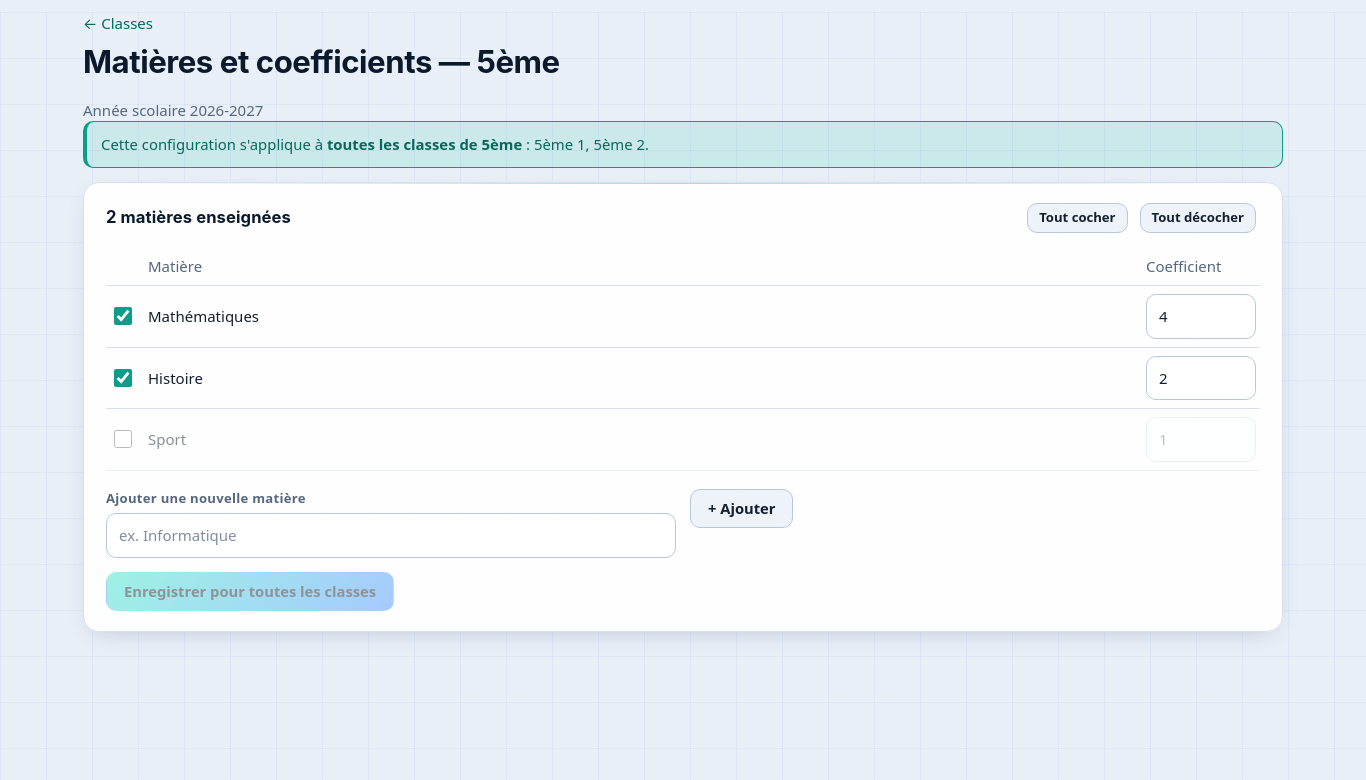
Test: Configuration des matières d’un niveau › n’enregistre que les matières cochées, avec leurs coefficients
The image size is (1366, 780).
Replace the text in the number field named "Coefficient Mathématiques" with "6": (1201, 316) [1146,294,1256,338]
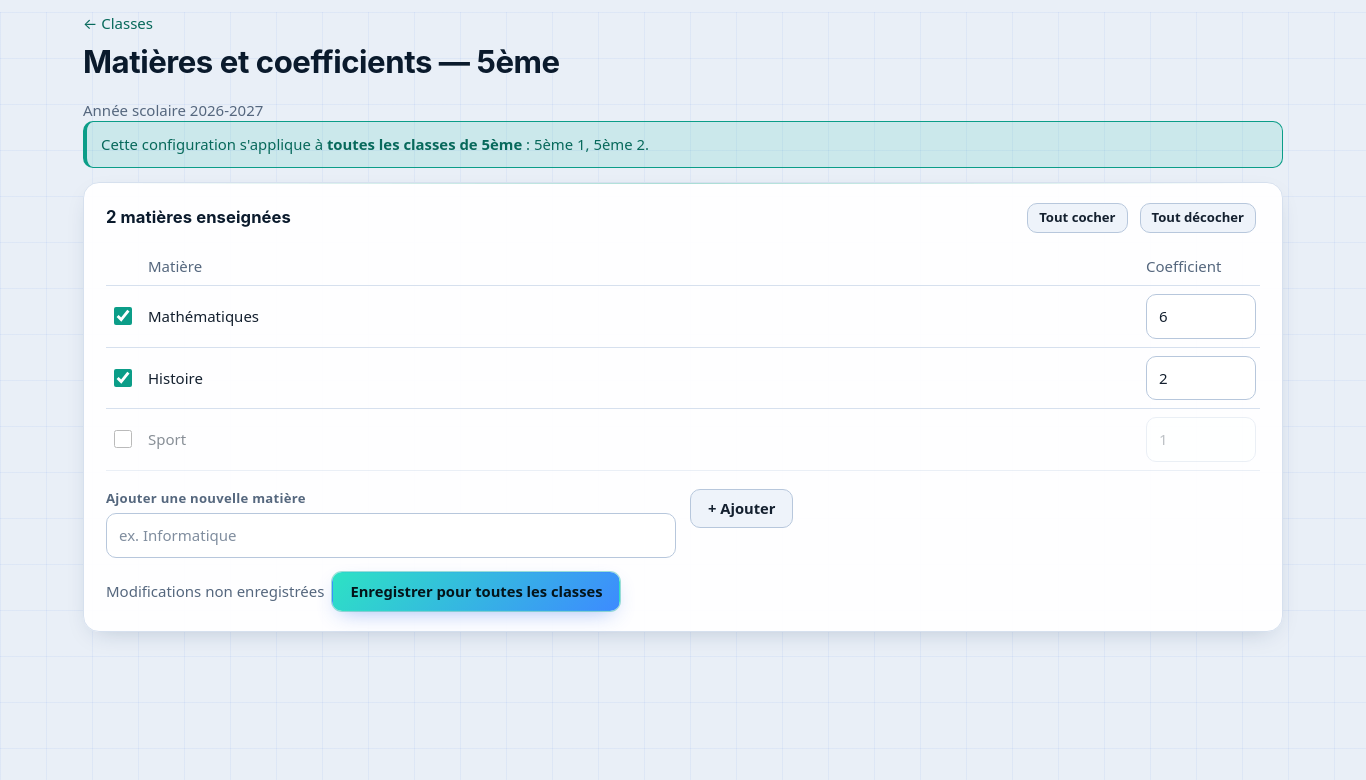
Click the checkbox named "Enseigner Histoire": (123, 378) [114,369,132,387]
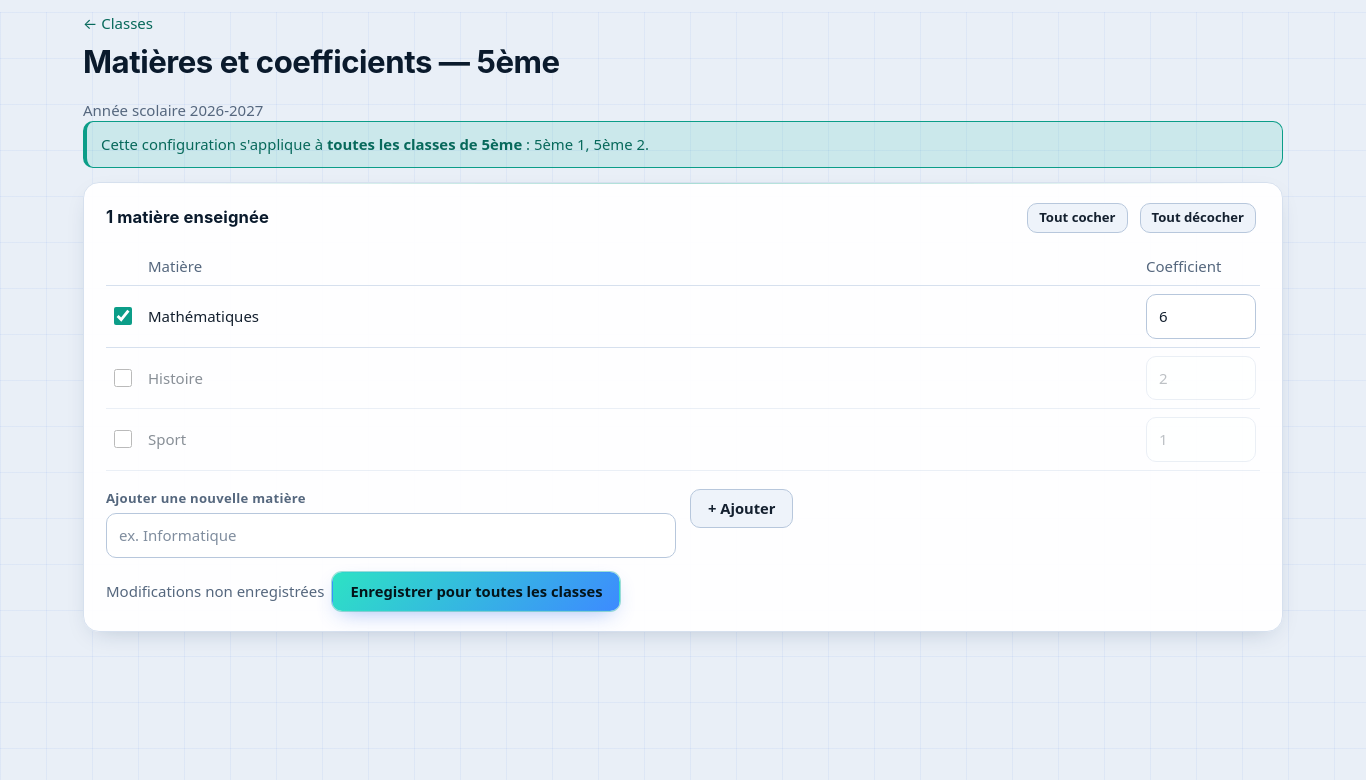
Click the checkbox named "Enseigner Sport": (123, 439) [114,430,132,448]
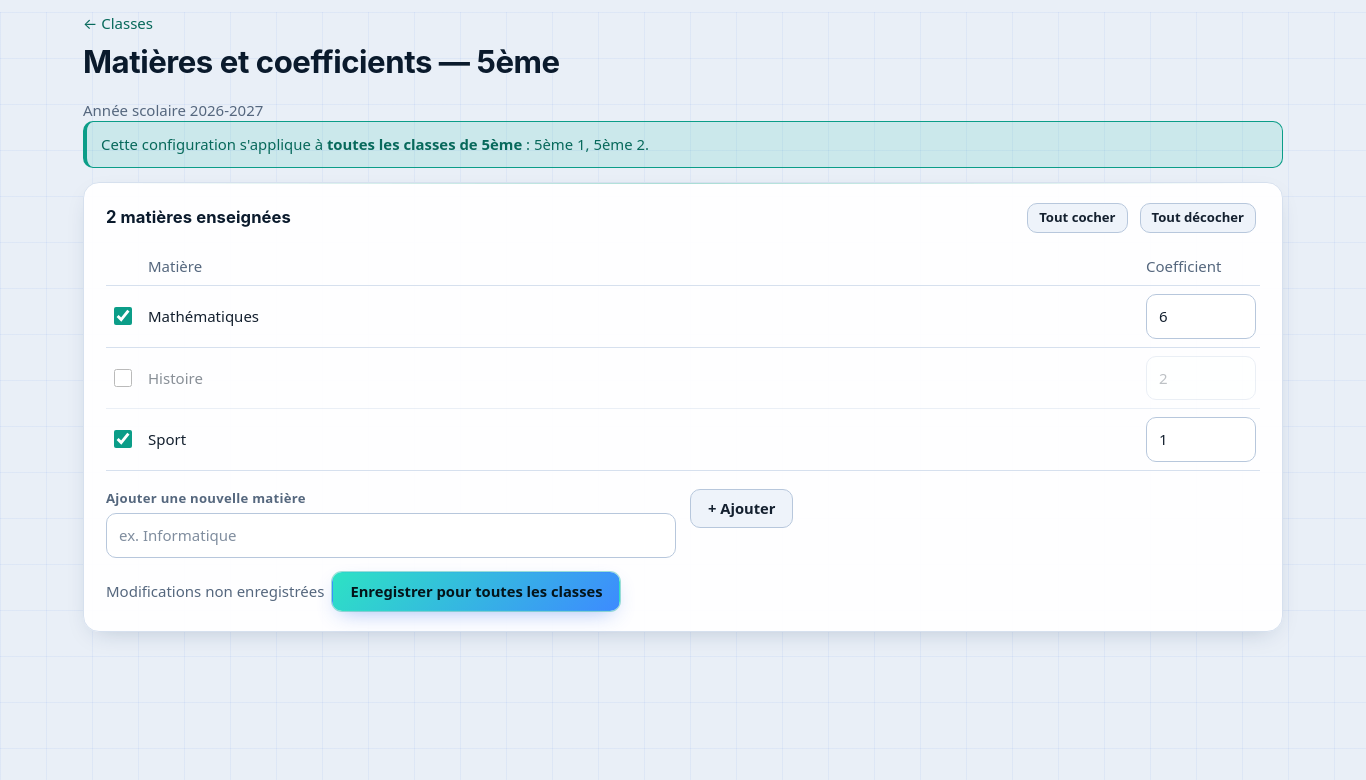
Click the button "Enregistrer pour toutes les classes": (476, 592) [332,572,620,611]
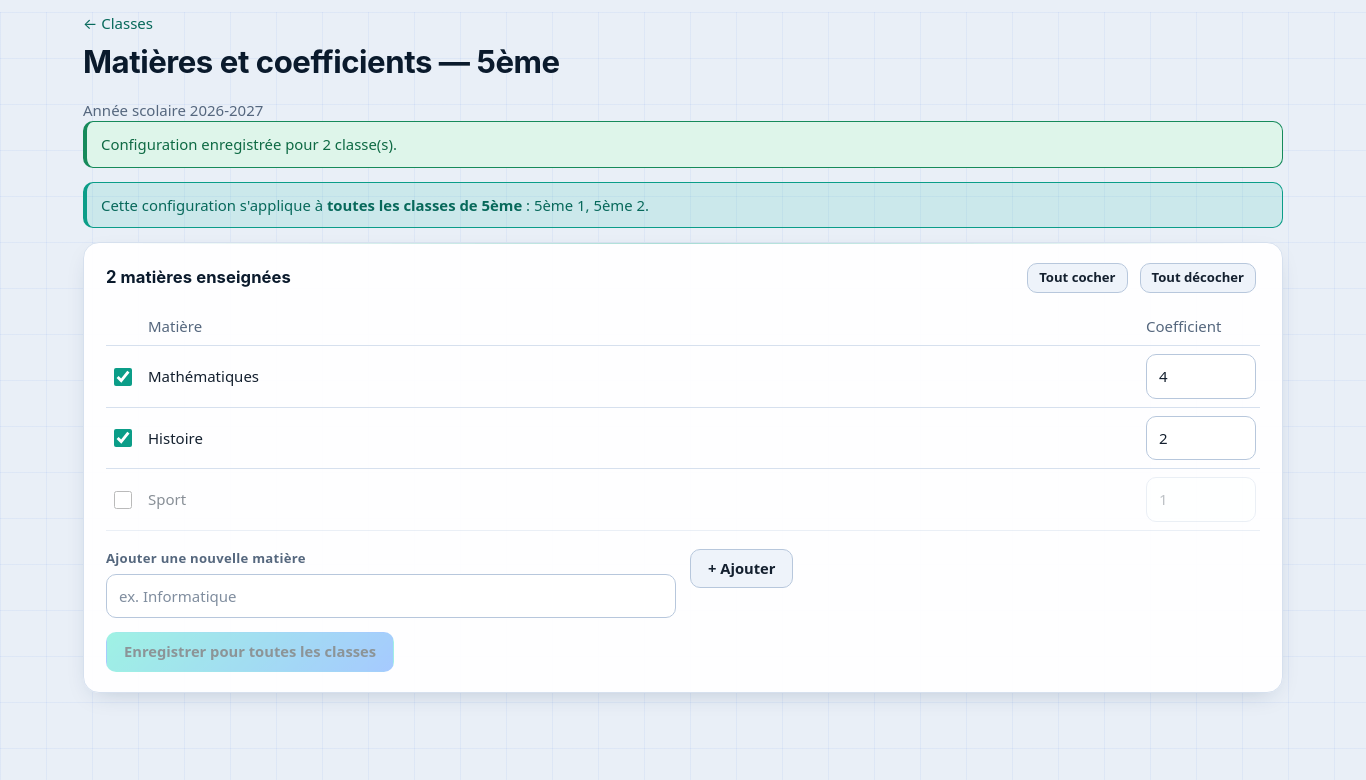
Result: the text "Configuration enregistrée pour 2 classe(s)." is shown at [83,121,1283,168]
